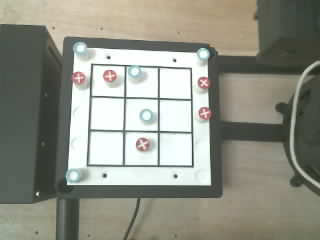blue circle: (140, 109, 153, 123), (66, 169, 80, 182), (73, 42, 86, 54), (197, 48, 209, 60), (128, 66, 141, 77)
board: (66, 42, 212, 185)
cells: (89, 132, 122, 164), (125, 132, 157, 165), (160, 133, 191, 165), (159, 100, 191, 131), (91, 98, 123, 129), (160, 68, 191, 99), (92, 66, 124, 96), (127, 68, 157, 97), (140, 109, 153, 123)
grid: (87, 64, 193, 167)
red cross: (136, 137, 149, 151), (71, 72, 85, 84), (103, 70, 116, 82), (198, 107, 211, 119), (198, 77, 210, 88)
